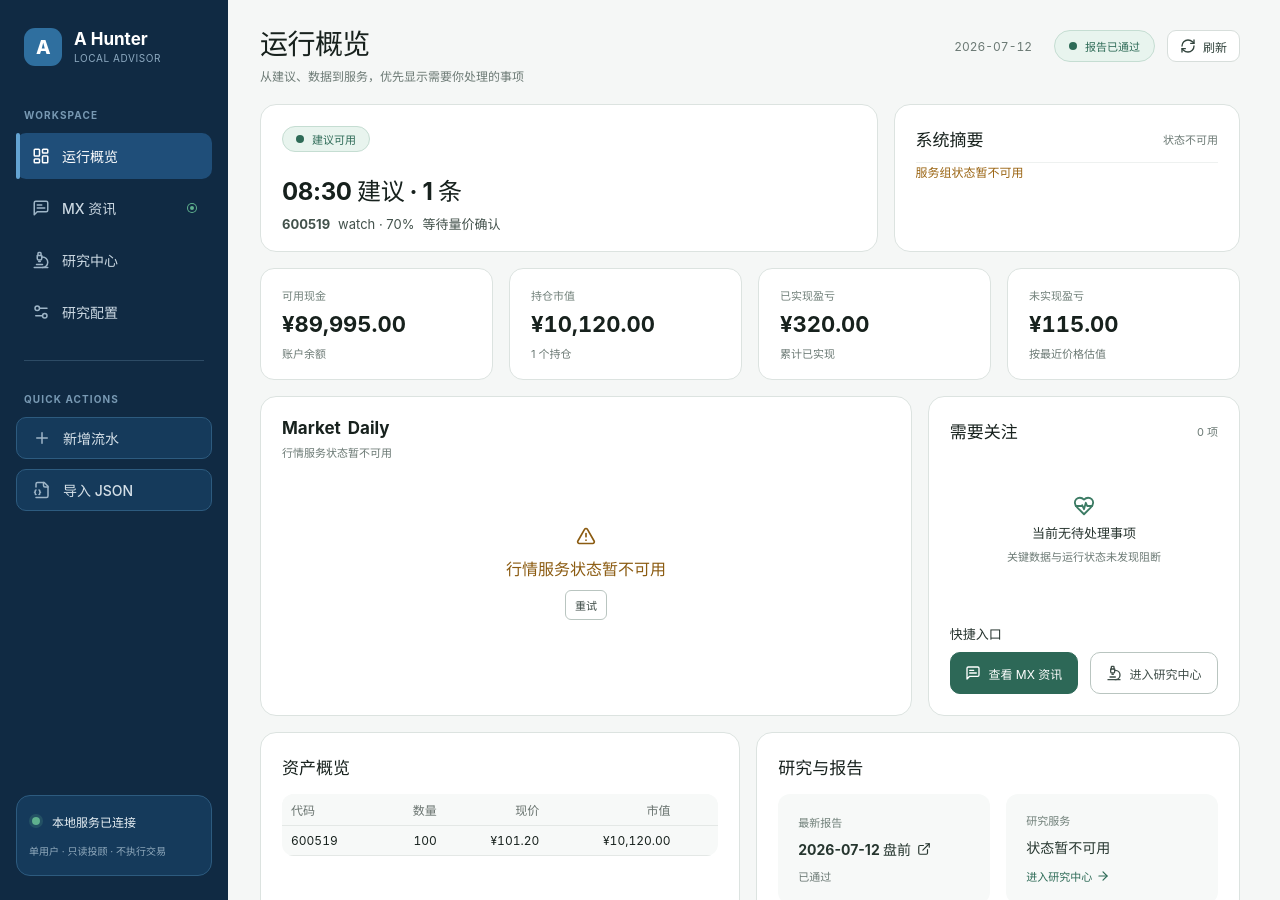
it: advisor dashboard › renders unavailable resource messages for a stale snapshot
Expected: the text "等待量价确认" is shown, [422,215,500,234]
Click the button with aria-label "刷新当前状态". click: (1204,46)
box: [1167,30,1240,62]
(page scrolled)
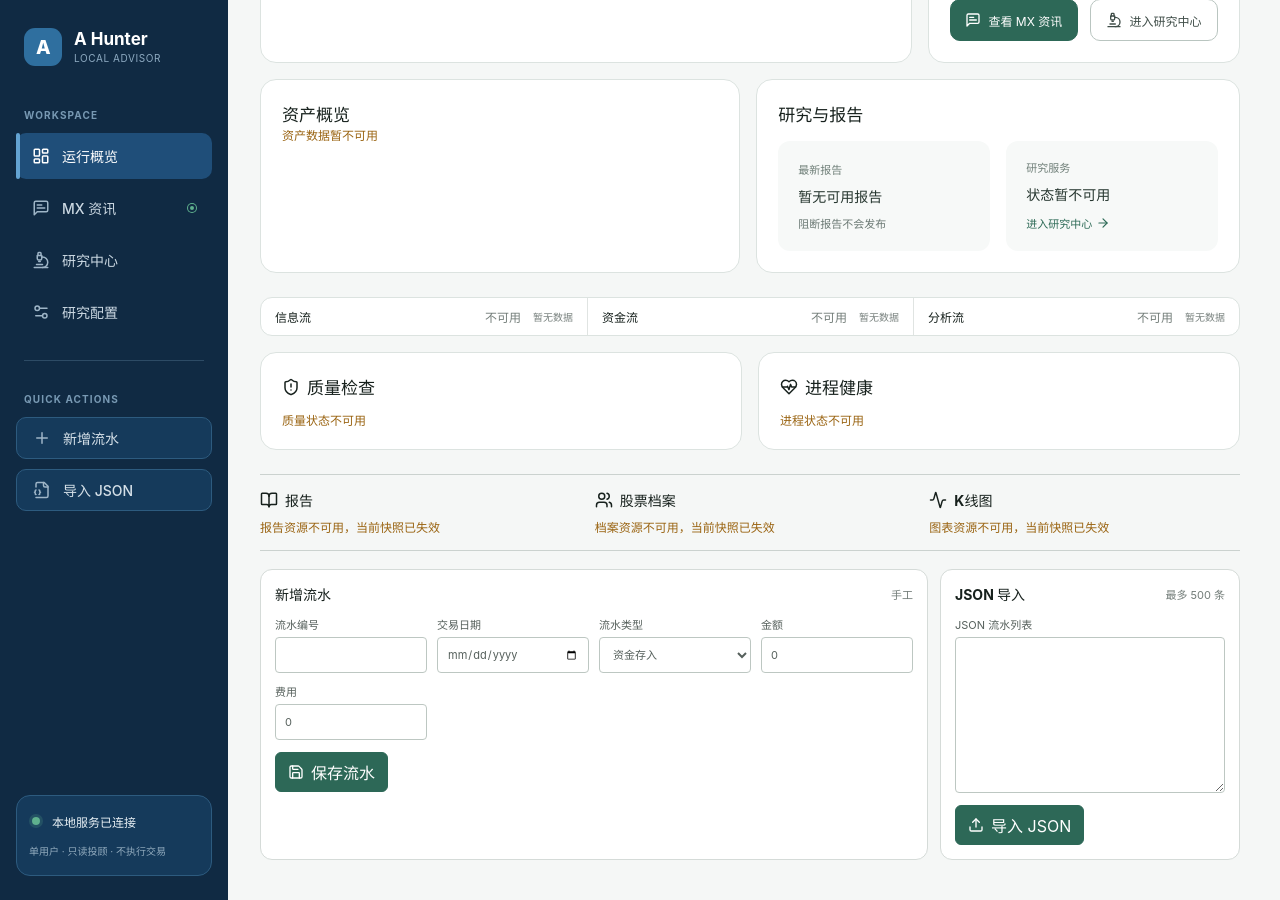
Now the text "报告资源不可用，当前快照已失效" is shown, box [260,520,440,535]
Now the text "档案资源不可用，当前快照已失效" is shown, box [595,520,775,535]
Now the text "图表资源不可用，当前快照已失效" is shown, box [929,520,1109,535]
